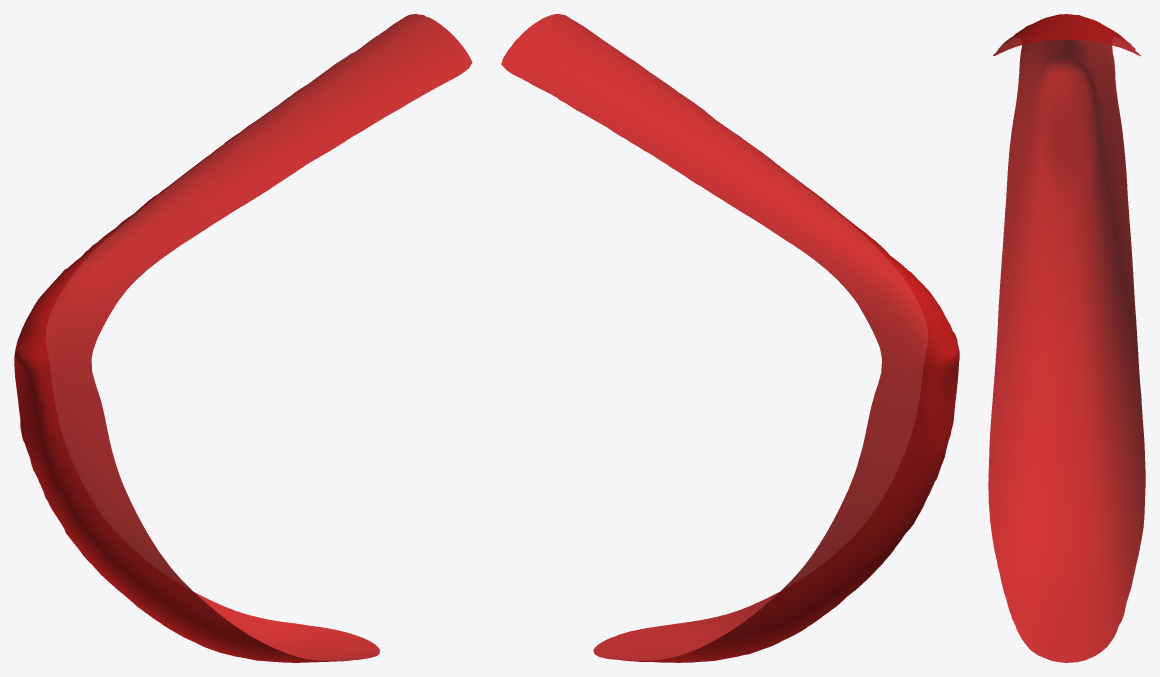
The model's file is tail_tip.dae.
3 renders of one model, left to right at view 1: azimuth 30°, elevation 25°; view 2: azimuth 150°, elevation 25°; view 3: azimuth 270°, elevation 25°, orthographic. The views are drawn at different scales.
Visible parts, largest first — view 1: tail_tip; view 2: tail_tip; view 3: tail_tip.
Part boxes in pixels (x1,y1,x2,y2): tail_tip: (14, 14, 472, 662); tail_tip: (501, 14, 959, 662); tail_tip: (988, 14, 1145, 662).
Bounding box in the file's own units: 0.384 × 0.1135 × 0.524.
